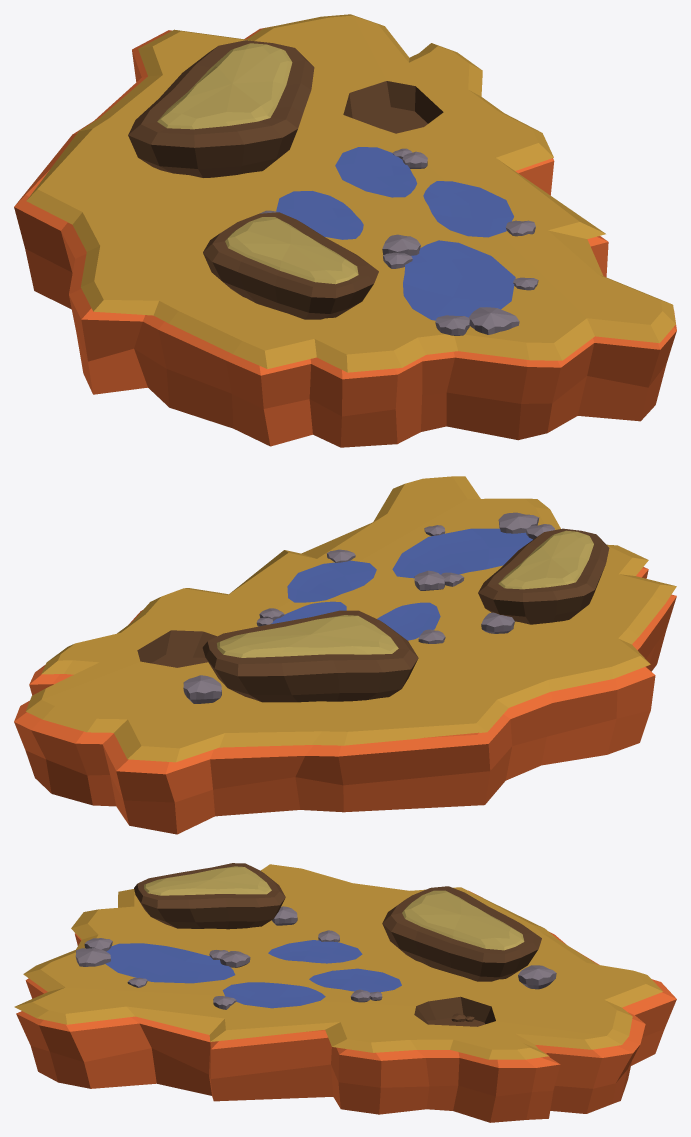
The model's file is ambienteCarpincho.fbx.
3 views of the same model, one above another, from view 1: azimuth 30°, elevation 25°; view 2: azimuth 150°, elevation 25°; view 3: azimuth 270°, elevation 25° (orthographic). The views are drawn at different scales.
Visible parts, largest first — view 1: Plane.013, Plane.014, Circle.003, Circle, Plane.004, Plane.001, Plane.002, Plane.005; view 2: Plane.013, Plane.014, Circle.003, Circle, Plane.004, Plane.001, Plane.005, Plane.002; view 3: Plane.013, Plane.014, Circle.003, Circle, Plane.004, Plane.001, Plane.005, Plane.002.
Part boxes in pixels (left/top/right/bottom): Plane.013: left=26, top=14, right=675, bottom=372; Plane.014: left=14, top=26, right=676, bottom=447; Circle.003: left=128, top=40, right=538, bottom=335; Circle: left=203, top=148, right=535, bottom=319; Plane.004: left=403, top=240, right=515, bottom=320; Plane.001: left=423, top=181, right=513, bottom=237; Plane.002: left=335, top=147, right=417, bottom=197; Plane.005: left=276, top=191, right=363, bottom=239; Plane.013: left=26, top=476, right=676, bottom=762; Plane.014: left=14, top=567, right=676, bottom=834; Circle.003: left=183, top=512, right=554, bottom=703; Circle: left=256, top=528, right=609, bottom=643; Plane.004: left=392, top=528, right=532, bottom=578; Plane.001: left=287, top=560, right=376, bottom=602; Plane.005: left=377, top=602, right=440, bottom=640; Plane.002: left=271, top=601, right=346, bottom=623; Plane.013: left=14, top=864, right=662, bottom=1059; Plane.014: left=16, top=890, right=676, bottom=1122; Circle.003: left=75, top=886, right=556, bottom=1021; Circle: left=134, top=863, right=382, bottom=1009; Plane.004: left=105, top=943, right=235, bottom=983; Plane.001: left=222, top=982, right=325, bottom=1008; Plane.005: left=268, top=940, right=362, bottom=963; Plane.002: left=309, top=968, right=401, bottom=992.
Size of the model in its own units: 73.34 by 20.47 by 103.
